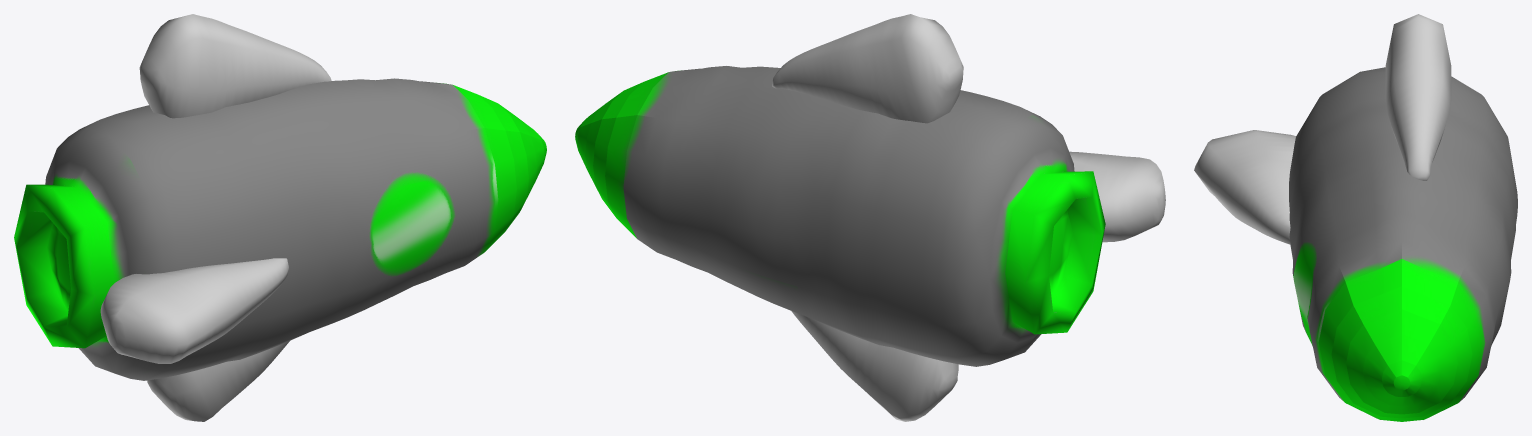
Rendered from ship2.fbx.
3 renders of one model, left to right at view 1: azimuth 30°, elevation 25°; view 2: azimuth 150°, elevation 25°; view 3: azimuth 270°, elevation 25°, orthographic. The views are drawn at different scales.
Visible parts, largest first — view 1: pPlane10; view 2: pPlane10; view 3: pPlane10.
Boxes of the visible parts, x1,y1,x2,y2 form: pPlane10: (14, 14, 546, 421); pPlane10: (575, 14, 1165, 421); pPlane10: (1194, 14, 1517, 421).
Size of the model in its own units: 3.21 by 2.46 by 1.82.
